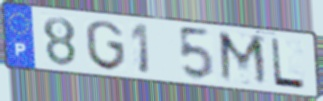1: (129, 21, 150, 76)
5: (176, 24, 217, 84)
8: (40, 14, 79, 69)
G: (83, 19, 128, 73)
L: (268, 36, 308, 91)
M: (216, 29, 271, 89)
